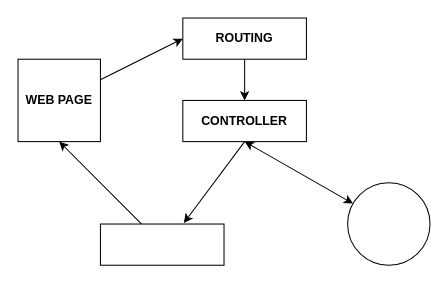
This 448x283 diagram has some shape labels left out. The shapes that lost their labels are listed below. From the top down, each one's centre as x and y in pixels, then its label:
At pixel 388 223: "MODEL".
At pixel 161 244: "VIEW".
